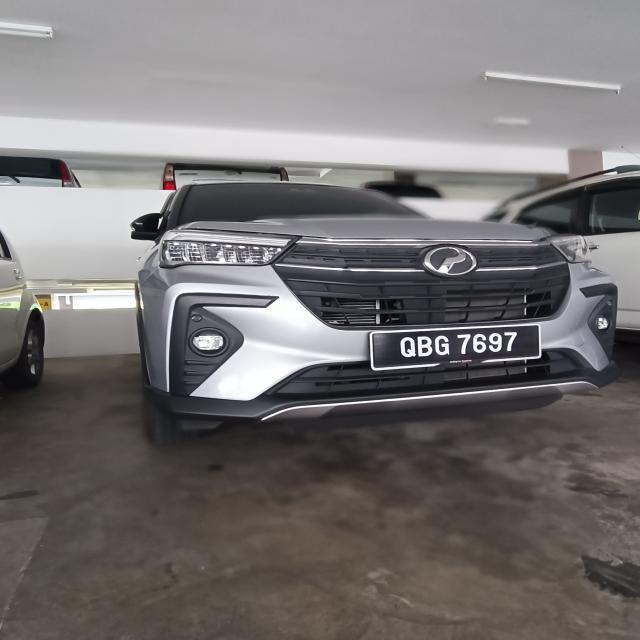PeroduaAtiva: (129, 178, 621, 444)
